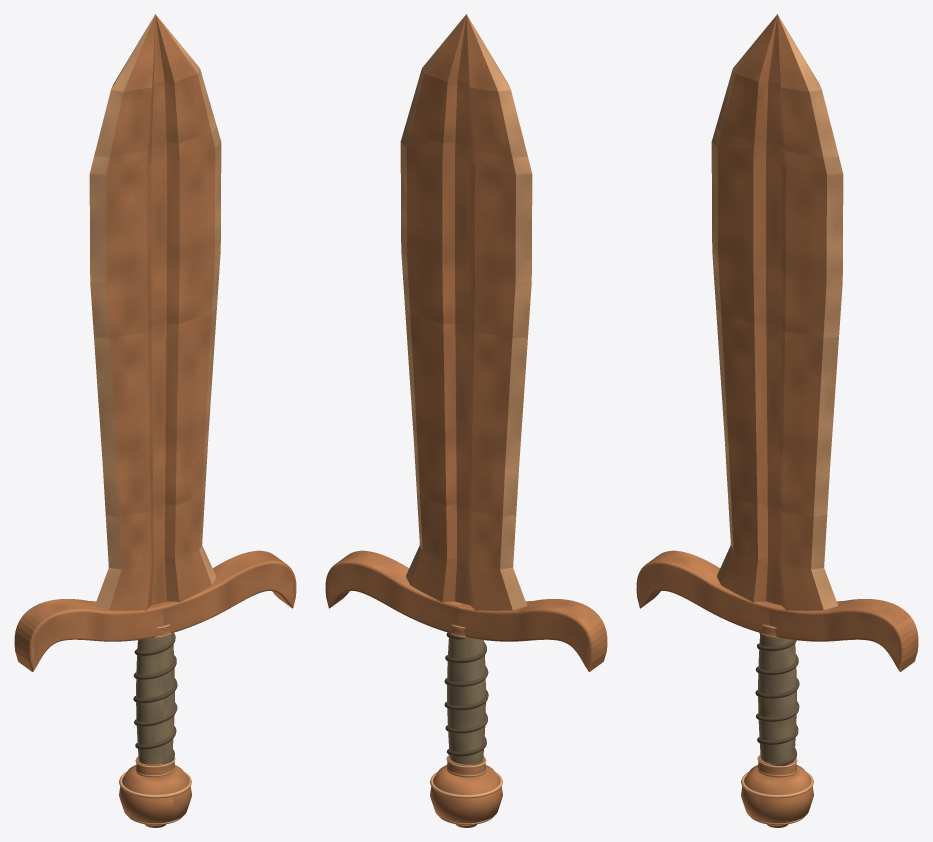
File: galeskin_sword.glb
The picture shows the model from 3 angles, left to right: view 1: azimuth 30°, elevation 25°; view 2: azimuth 150°, elevation 25°; view 3: azimuth 330°, elevation 25°; orthographic projection.
Parts seen in each view (by area): view 1: galeskin_sword-forged-body, galeskin_sword-honed-edge, galeskin_sword-grip-hide, galeskin_sword-wrap-overlap; view 2: galeskin_sword-forged-body, galeskin_sword-honed-edge, galeskin_sword-grip-hide, galeskin_sword-wrap-overlap; view 3: galeskin_sword-forged-body, galeskin_sword-honed-edge, galeskin_sword-grip-hide, galeskin_sword-wrap-overlap.
Boxes of the visible parts, x1,y1,x2,y2 form: galeskin_sword-forged-body: (14, 14, 296, 827); galeskin_sword-honed-edge: (89, 15, 221, 824); galeskin_sword-grip-hide: (136, 634, 174, 764); galeskin_sword-wrap-overlap: (133, 633, 177, 763); galeskin_sword-forged-body: (325, 14, 607, 827); galeskin_sword-honed-edge: (400, 15, 532, 824); galeskin_sword-grip-hide: (447, 638, 485, 764); galeskin_sword-wrap-overlap: (444, 632, 488, 756); galeskin_sword-forged-body: (636, 14, 918, 827); galeskin_sword-honed-edge: (711, 15, 843, 824); galeskin_sword-grip-hide: (758, 634, 796, 763); galeskin_sword-wrap-overlap: (755, 640, 799, 765).
Size of the model in its own units: 0.5164 by 1.49 by 0.122.
Materials: 4 (4 with a texture image).
